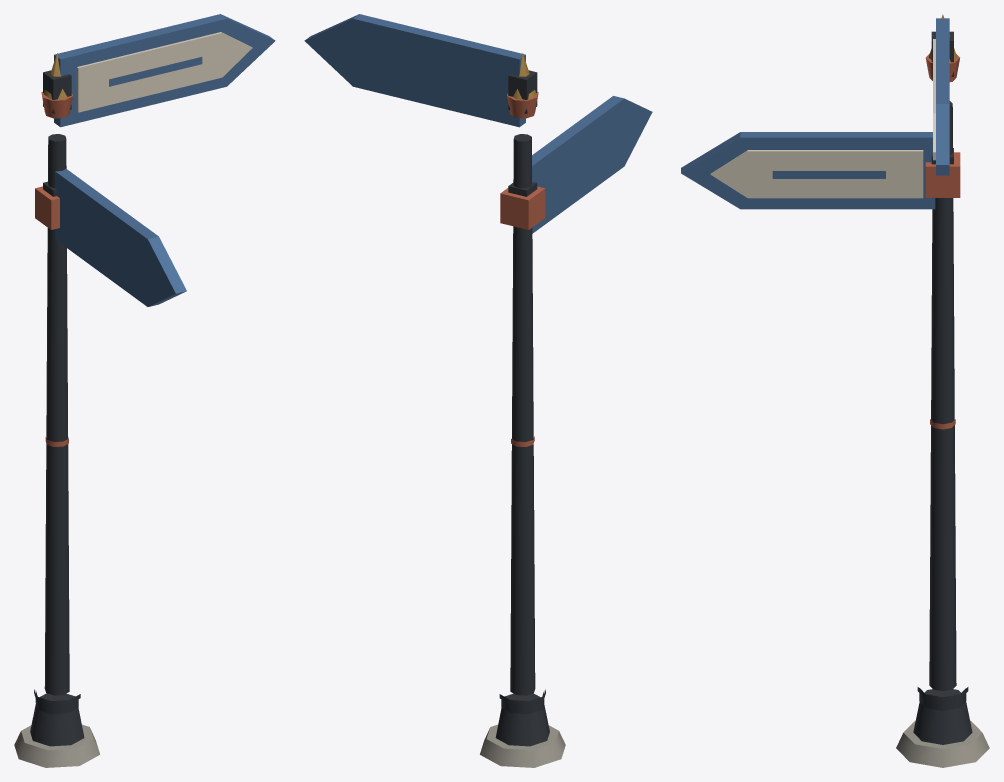
File: street-name-sign.glb
3 renders of one model, left to right at view 1: azimuth 30°, elevation 25°; view 2: azimuth 150°, elevation 25°; view 3: azimuth 270°, elevation 25°, orthographic. The views are drawn at different scales.
Parts seen in each view (by area): view 1: Merged_prop-body, Merged_city-metal-dark, Merged_prop-body-light, Merged_city-curb, Merged_prop-accent, Merged_prop-body-surface; view 2: Merged_prop-body, Merged_city-metal-dark, Merged_prop-accent, Merged_city-curb; view 3: Merged_city-metal-dark, Merged_prop-body, Merged_prop-body-light, Merged_city-curb, Merged_prop-accent, Merged_prop-body-surface.
Part boxes in pixels (left/top/right/bottom): Merged_prop-body: left=54, top=14, right=275, bottom=306; Merged_city-metal-dark: left=30, top=70, right=84, bottom=746; Merged_prop-body-light: left=76, top=32, right=252, bottom=112; Merged_city-curb: left=14, top=724, right=99, bottom=767; Merged_prop-accent: left=35, top=91, right=72, bottom=446; Merged_prop-body-surface: left=109, top=57, right=202, bottom=86; Merged_prop-body: left=304, top=14, right=652, bottom=233; Merged_city-metal-dark: left=495, top=70, right=549, bottom=746; Merged_prop-accent: left=500, top=92, right=545, bottom=446; Merged_city-curb: left=480, top=724, right=565, bottom=767; Merged_city-metal-dark: left=913, top=31, right=972, bottom=744; Merged_prop-body: left=681, top=18, right=949, bottom=209; Merged_prop-body-light: left=710, top=39, right=935, bottom=198; Merged_city-curb: left=896, top=720, right=989, bottom=767; Merged_prop-accent: left=925, top=53, right=960, bottom=429; Merged_prop-body-surface: left=772, top=171, right=885, bottom=178.
Size of what is drawn, in the model's own units: 1.25 by 3.28 by 1.25.
